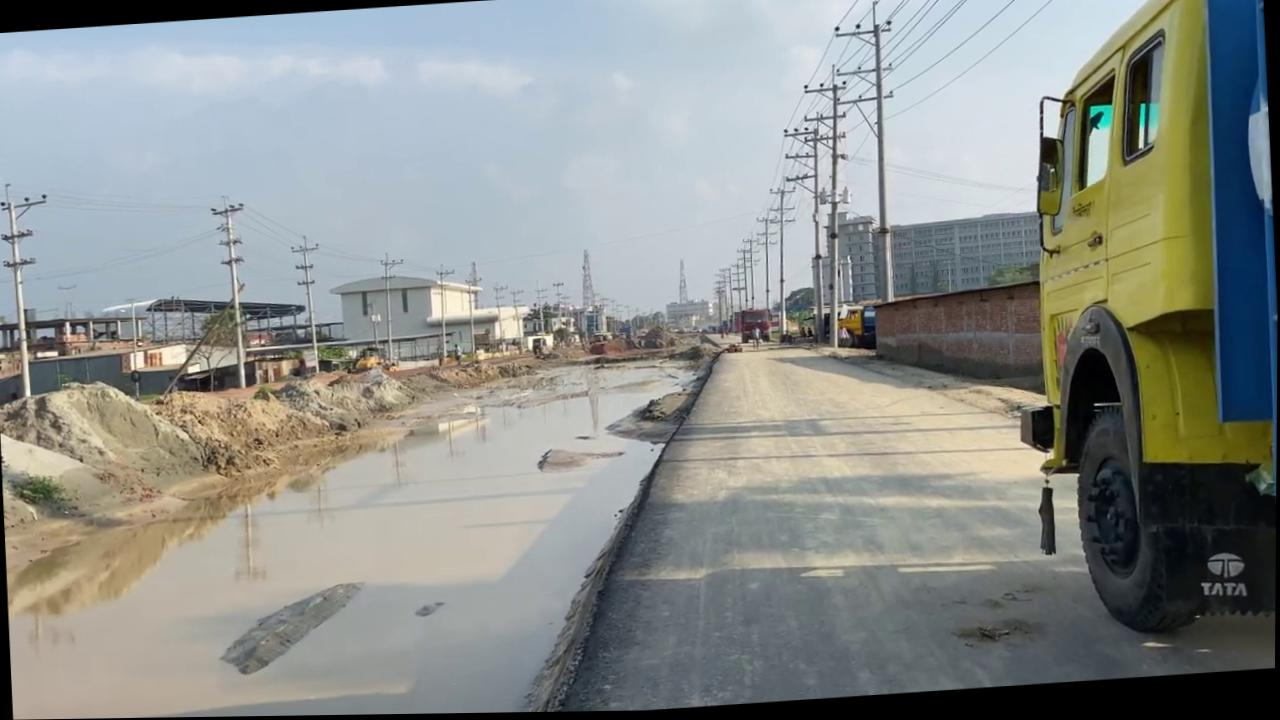Curb: (503, 341, 749, 714)
Pole: (829, 3, 906, 307), (0, 179, 56, 398), (209, 197, 254, 390), (289, 235, 324, 375), (377, 254, 408, 367), (433, 266, 458, 365)
Rickshaw: (527, 306, 1278, 714)
Sidewalk: (0, 348, 728, 720)
Tree: (993, 0, 1280, 645), (835, 305, 878, 352), (347, 345, 397, 375), (738, 309, 772, 345), (584, 333, 626, 358), (530, 336, 556, 361)
Upstairs: (870, 281, 1045, 392)
